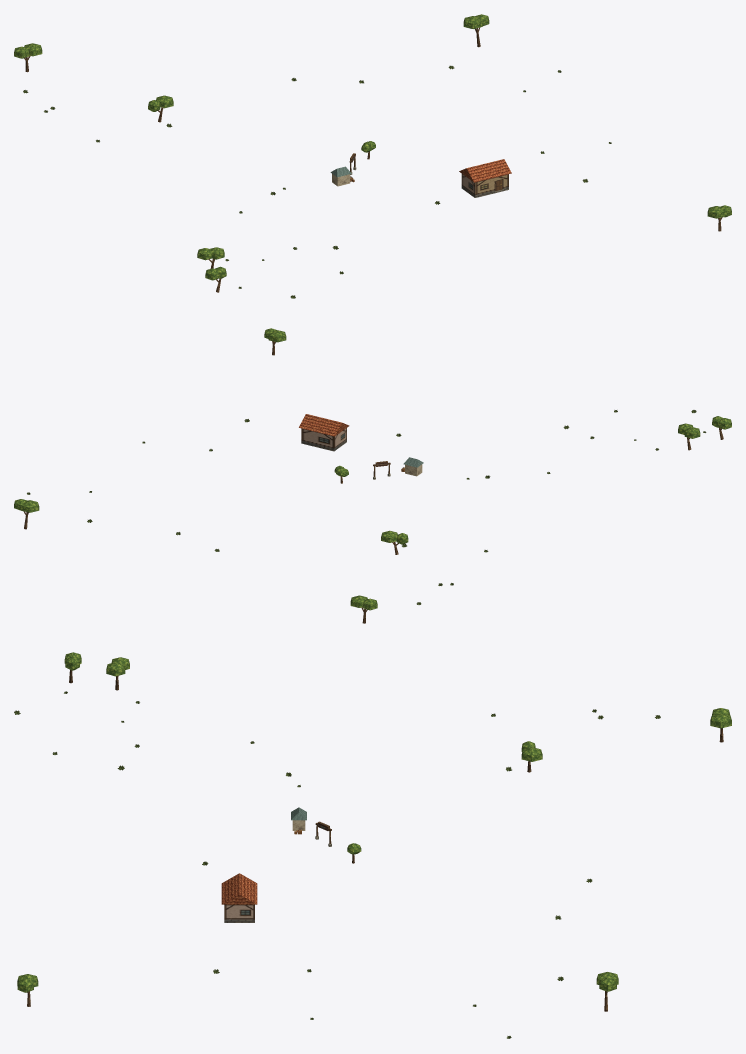
File: FieldCell_2_5.fbx
3 renders of one model, top to bottom at view 1: azimuth 30°, elevation 25°; view 2: azimuth 150°, elevation 25°; view 3: azimuth 270°, elevation 25°, orthographic. The views are drawn at different scales.
Visible parts, largest first — view 1: FieldCell_2_5; view 2: FieldCell_2_5; view 3: FieldCell_2_5.
Part boxes in pixels (bbox=[...]): FieldCell_2_5: bbox=[14, 14, 731, 292]; FieldCell_2_5: bbox=[14, 328, 731, 623]; FieldCell_2_5: bbox=[17, 652, 731, 1011].
Bounding box in the file's own units: 14691 × 1928 × 14496.
